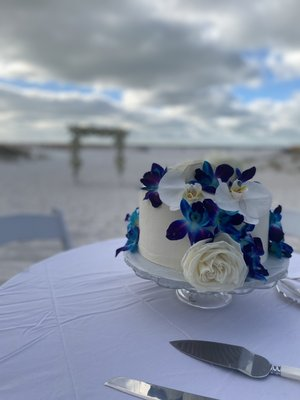sandwich: (168, 339, 300, 383)
